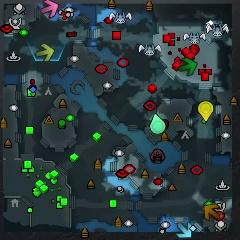p2: (150, 113, 166, 135)
p4: (198, 100, 214, 122)
x1: (41, 0, 59, 17)
x2: (36, 44, 55, 62)
x3: (177, 222, 193, 238)
x4: (178, 57, 197, 76)
x5: (203, 203, 220, 221)
